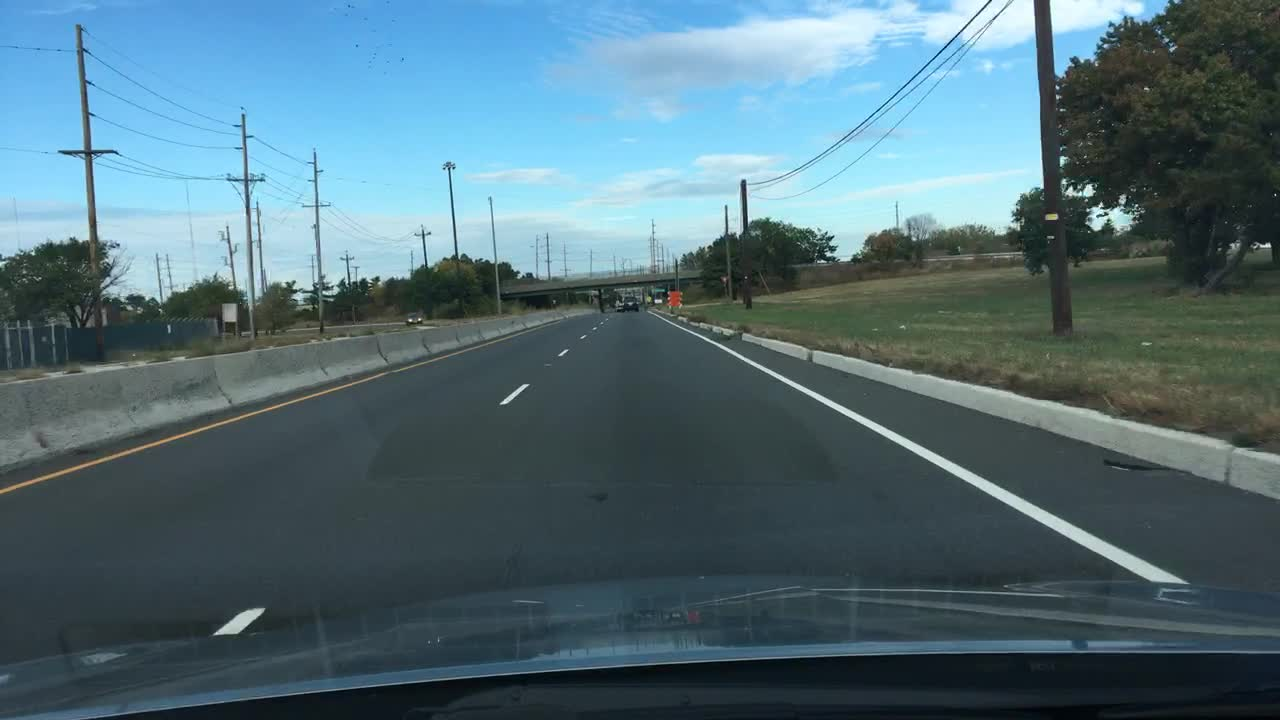car: (623, 295, 641, 314), (404, 311, 425, 325), (617, 300, 630, 312)
traffic sign: (224, 304, 238, 323), (653, 284, 673, 296), (668, 291, 682, 305), (655, 297, 666, 307)
